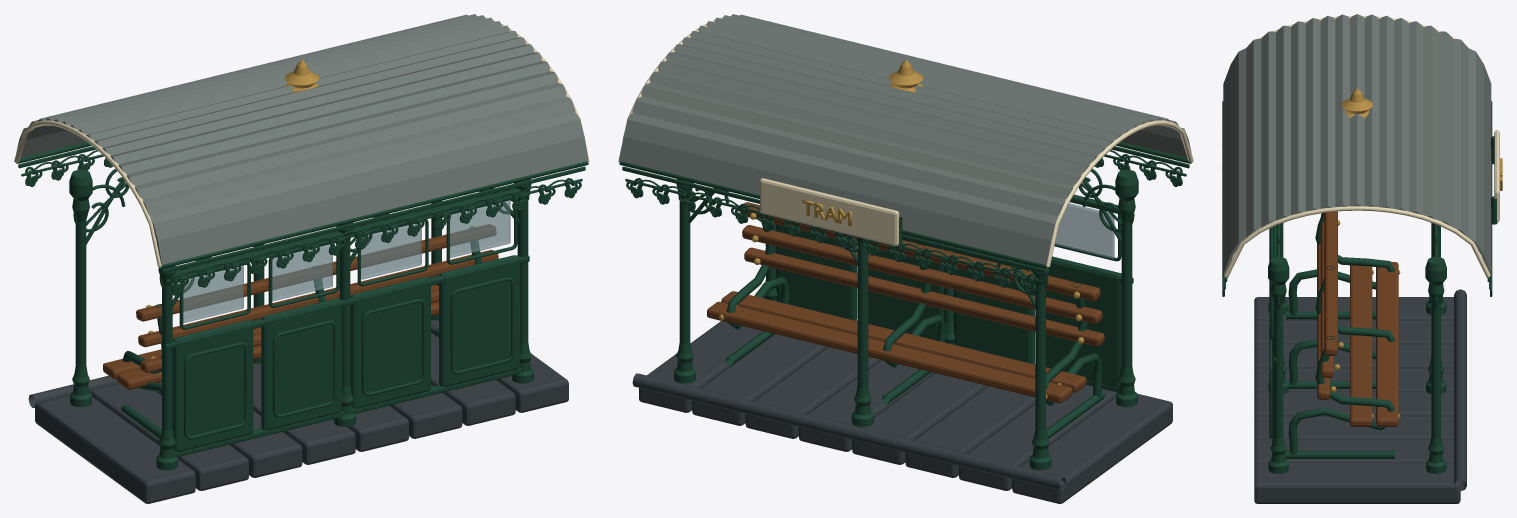
Rendered from tram-stop-shelter.glb.
3 renders of one model, left to right at view 1: azimuth 30°, elevation 25°; view 2: azimuth 150°, elevation 25°; view 3: azimuth 270°, elevation 25°, orthographic. The views are drawn at different scales.
Visible parts, largest first — view 1: thin corrugated barrel roof, lower panel 1, lower panel 0, lower panel 3, lower panel 2, bluestone block 0, blackwood bench slat 4, bluestone block 1, turned cast post 0, blackwood bench slat 3, bluestone block 6, bluestone block 3 (+29 smaller); view 2: thin corrugated barrel roof, bluestone block 0, blackwood bench slat 1, nosed platform kerb, lower panel 0, blackwood bench slat 2, blackwood bench slat 3, bluestone block 6, bluestone block 2, TRAM panel, bluestone block 3, blackwood bench slat 0 (+22 smaller); view 3: thin corrugated barrel roof, bluestone block 7, bluestone block 5, blackwood bench slat 1, blackwood bench slat 0, bluestone block 6, turned cast post 5, turned cast post 2, bluestone block 4, nosed platform kerb, bluestone block 1, bluestone block 2 (+16 smaller).
Boxes of the visible parts, x1,y1,x2,y2 form: thin corrugated barrel roof: (16, 14, 588, 264); lower panel 1: (261, 298, 341, 430); lower panel 0: (172, 320, 253, 452); lower panel 3: (439, 255, 519, 387); lower panel 2: (350, 277, 430, 408); bluestone block 0: (35, 396, 195, 503); blackwood bench slat 4: (136, 224, 496, 321); bluestone block 1: (90, 383, 248, 490); turned cast post 0: (69, 169, 92, 407); blackwood bench slat 3: (138, 250, 498, 347); bluestone block 6: (431, 332, 515, 425); bluestone block 3: (253, 363, 355, 464); thin corrugated barrel roof: (619, 14, 1191, 264); bluestone block 0: (1012, 394, 1172, 503); blackwood bench slat 1: (707, 301, 1072, 403); nosed platform kerb: (632, 373, 1066, 490); lower panel 0: (1046, 256, 1121, 387); blackwood bench slat 2: (744, 247, 1104, 346); blackwood bench slat 3: (742, 225, 1102, 323); bluestone block 6: (692, 334, 827, 425); bluestone block 2: (905, 386, 1035, 477); TRAM panel: (760, 178, 899, 246); bluestone block 3: (852, 373, 987, 464); blackwood bench slat 0: (721, 291, 1086, 392); thin corrugated barrel roof: (1223, 14, 1491, 274); bluestone block 7: (1254, 463, 1460, 503); bluestone block 5: (1254, 416, 1453, 441); blackwood bench slat 1: (1376, 262, 1398, 426); blackwood bench slat 0: (1350, 265, 1372, 426); bluestone block 6: (1254, 440, 1453, 465); turned cast post 5: (1268, 257, 1289, 473); turned cast post 2: (1425, 257, 1446, 473); bluestone block 4: (1254, 392, 1453, 418); nosed platform kerb: (1454, 289, 1466, 491); bluestone block 1: (1254, 321, 1453, 346); bluestone block 2: (1254, 344, 1453, 370).
Bounding box in the file's own units: 2.43 × 1.9 × 1.49.
